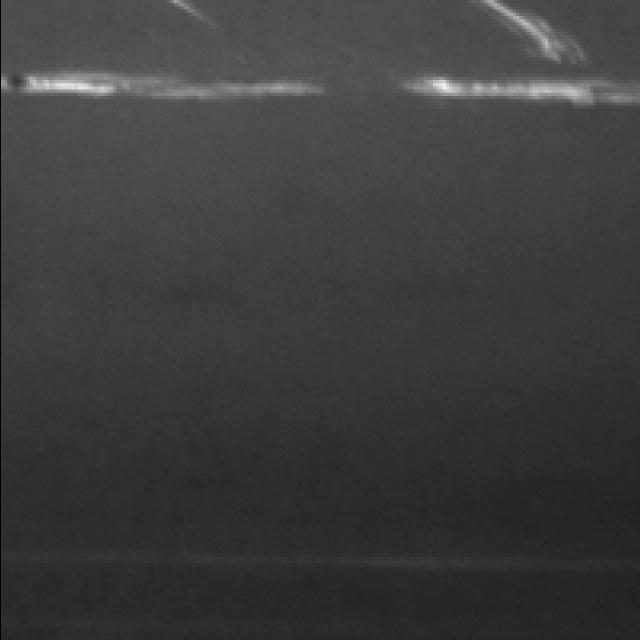scratches: (8, 59, 630, 113)
